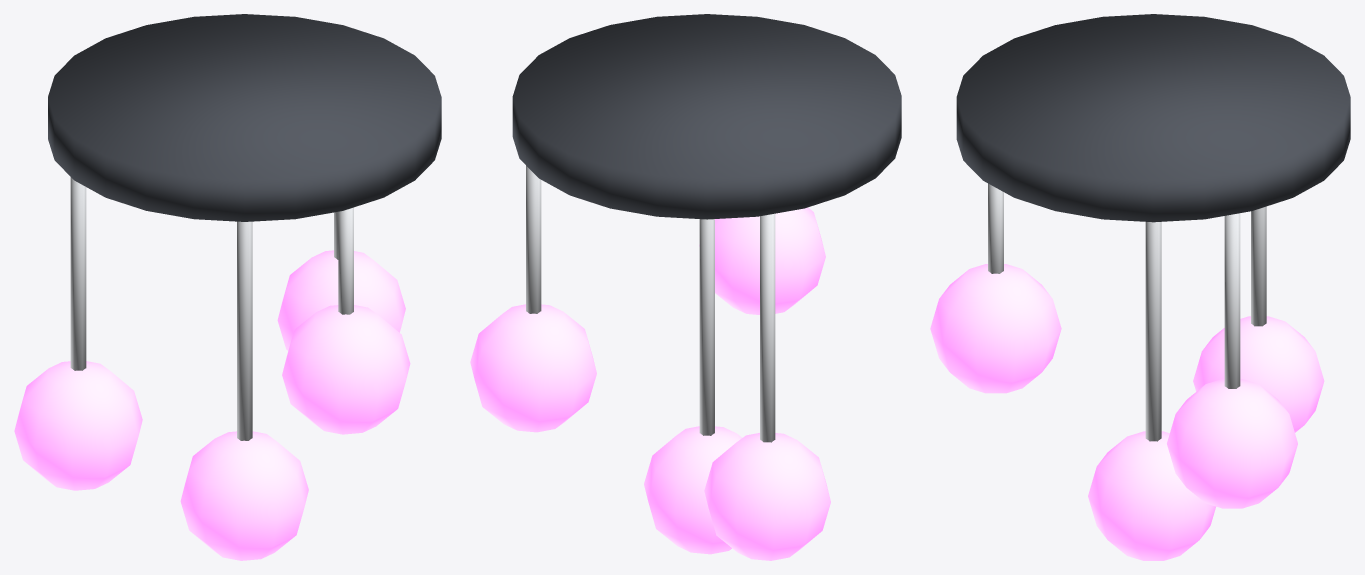
File: ceiling_light_cluster.glb
3 views of the same model, side by side, from view 1: azimuth 30°, elevation 25°; view 2: azimuth 150°, elevation 25°; view 3: azimuth 270°, elevation 25° (orthographic).
Parts seen in each view (by area): view 1: GD_ceiling_light_cluster__m0, GD_ceiling_light_cluster__m2, GD_ceiling_light_cluster__m1; view 2: GD_ceiling_light_cluster__m0, GD_ceiling_light_cluster__m2, GD_ceiling_light_cluster__m1; view 3: GD_ceiling_light_cluster__m0, GD_ceiling_light_cluster__m2, GD_ceiling_light_cluster__m1.
Part boxes in pixels (bbox=[...]): GD_ceiling_light_cluster__m0: bbox=[48, 14, 441, 221]; GD_ceiling_light_cluster__m2: bbox=[14, 250, 410, 560]; GD_ceiling_light_cluster__m1: bbox=[70, 177, 353, 440]; GD_ceiling_light_cluster__m0: bbox=[512, 14, 901, 219]; GD_ceiling_light_cluster__m2: bbox=[470, 207, 830, 560]; GD_ceiling_light_cluster__m1: bbox=[526, 165, 775, 442]; GD_ceiling_light_cluster__m0: bbox=[956, 14, 1350, 222]; GD_ceiling_light_cluster__m2: bbox=[930, 264, 1324, 560]; GD_ceiling_light_cluster__m1: bbox=[988, 183, 1266, 441].
Bounding box in the file's own units: 0.3176 × 0.385 × 0.32.
